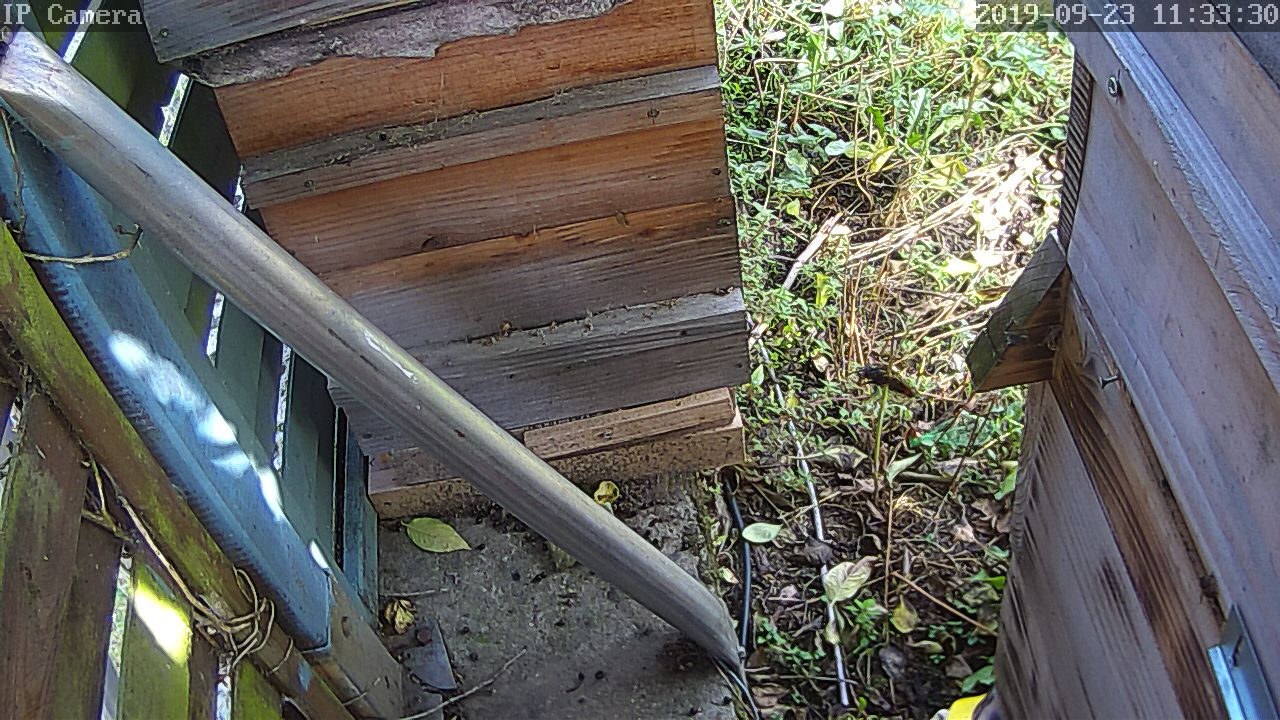hornet: (847, 358, 920, 403)
